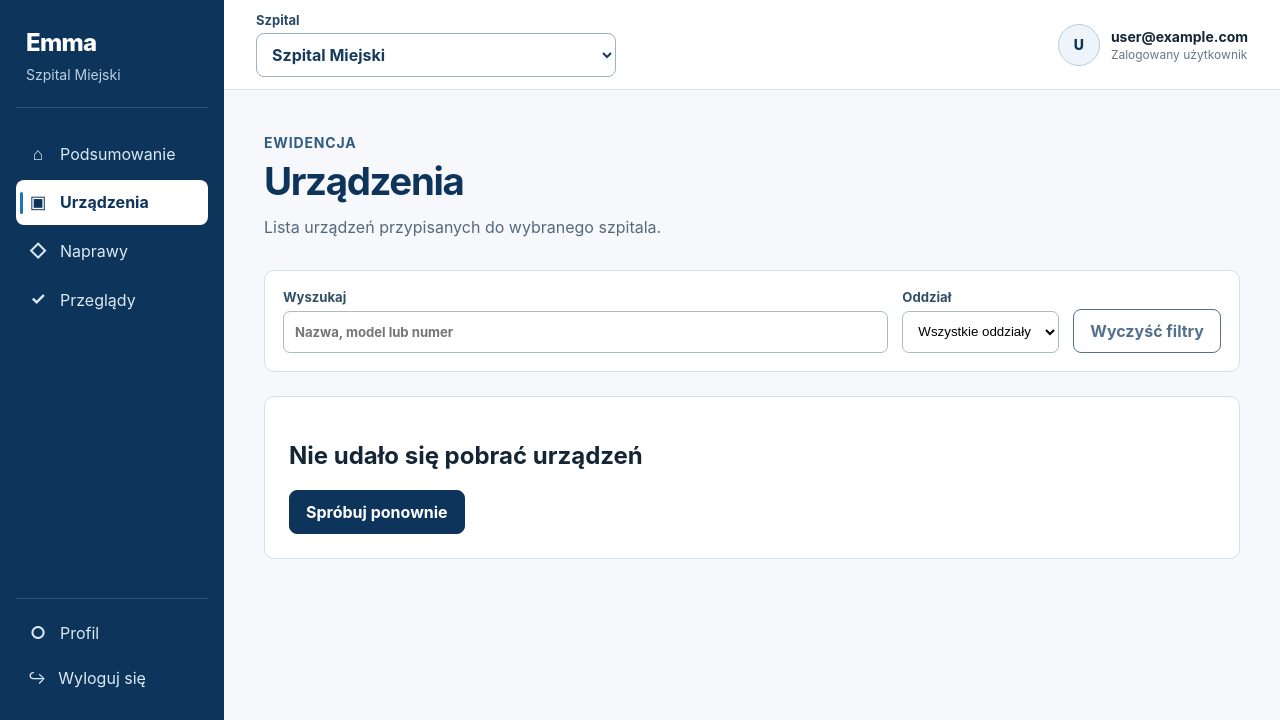
Portal hospital switcher › switches hospital, clears scoped cache and navigates to /app
Expected: the heading "Urządzenia" is shown, [264,158,464,204]
Select "Szpital Specjalistyczny" in the dropdown labelled "Szpital" at (436, 55), box [256,33,616,77]
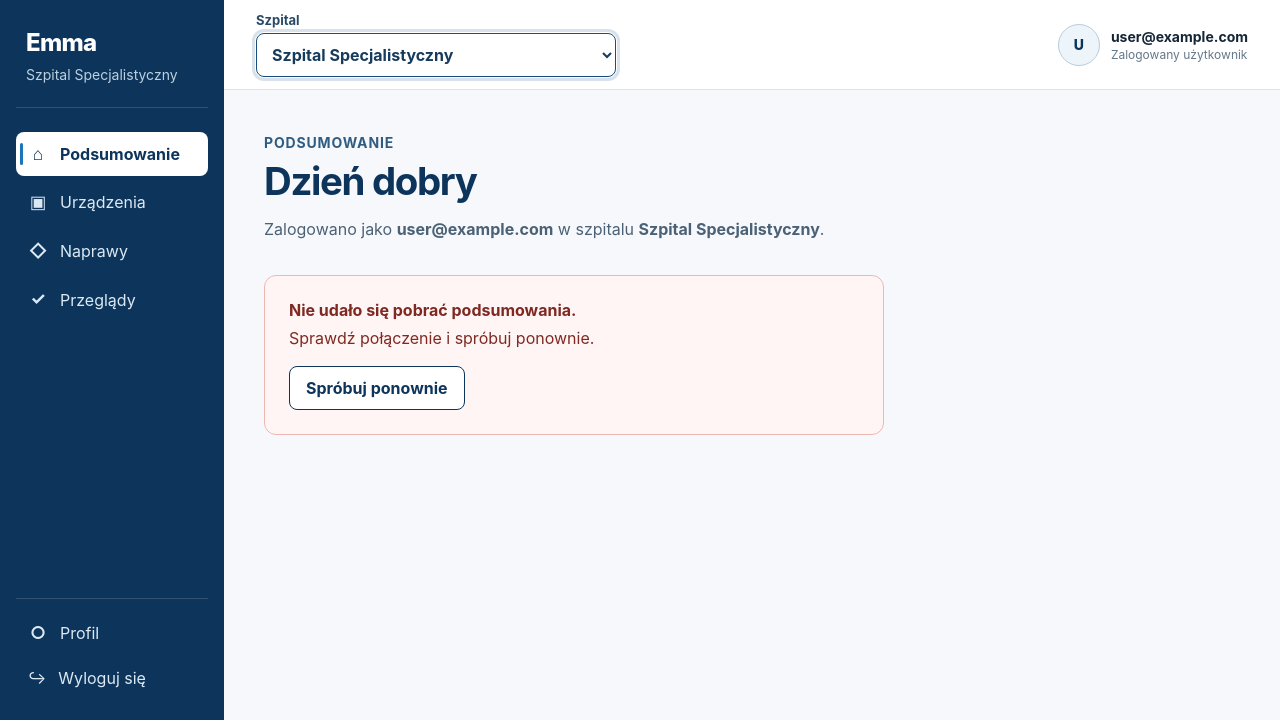
Expected: the heading "Dzień dobry" is shown, [264,158,476,204]
Expected: the text "Szpital Specjalistyczny" below "Emma" is shown, [26,66,178,83]
